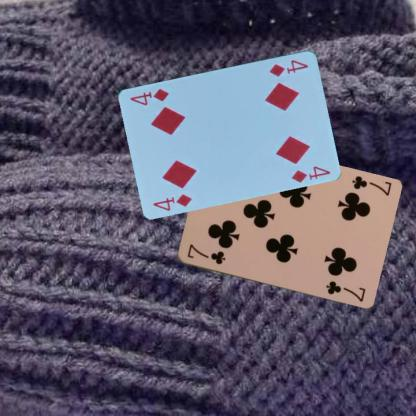4d: (266, 57, 310, 78), (150, 191, 193, 212)
7c: (349, 173, 392, 198), (184, 241, 226, 266)
